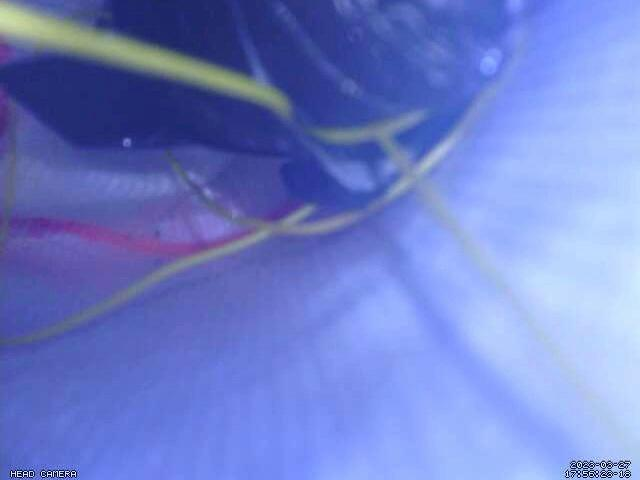head: (0, 41, 295, 259)
